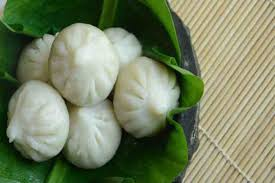modak: (110, 49, 189, 139), (49, 17, 117, 104), (10, 81, 70, 160), (60, 100, 120, 170)
